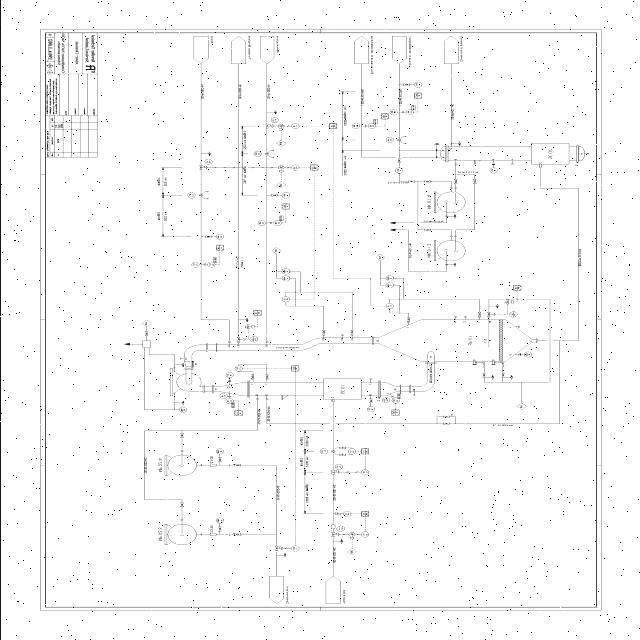3 Way Gate Valve: (345, 530, 356, 536), (242, 324, 250, 332), (276, 164, 284, 170), (277, 123, 284, 128)
Ball Valve: (141, 330, 151, 338), (233, 461, 242, 469), (402, 315, 412, 322), (178, 432, 186, 440), (318, 327, 326, 335), (365, 398, 374, 405), (422, 178, 432, 184), (216, 456, 223, 464), (394, 157, 402, 164), (248, 374, 258, 379), (479, 371, 486, 378), (475, 310, 481, 318), (215, 526, 222, 532), (178, 502, 185, 508), (348, 328, 354, 335), (452, 178, 458, 184), (471, 178, 477, 184), (484, 311, 491, 316), (234, 532, 242, 536), (498, 372, 504, 377), (263, 373, 268, 379)
Centrifugal Pump: (162, 517, 198, 563), (162, 446, 198, 482)
Closed Gate Valve: (158, 192, 166, 199)
Gate Valve: (421, 227, 431, 232)
Needle Valve: (336, 442, 346, 450), (333, 510, 341, 519), (336, 452, 346, 457)
Pneumatic-Diaphragm Gate Valve: (262, 122, 275, 130), (194, 163, 206, 171), (272, 545, 284, 551), (232, 337, 245, 342), (329, 532, 339, 537)
